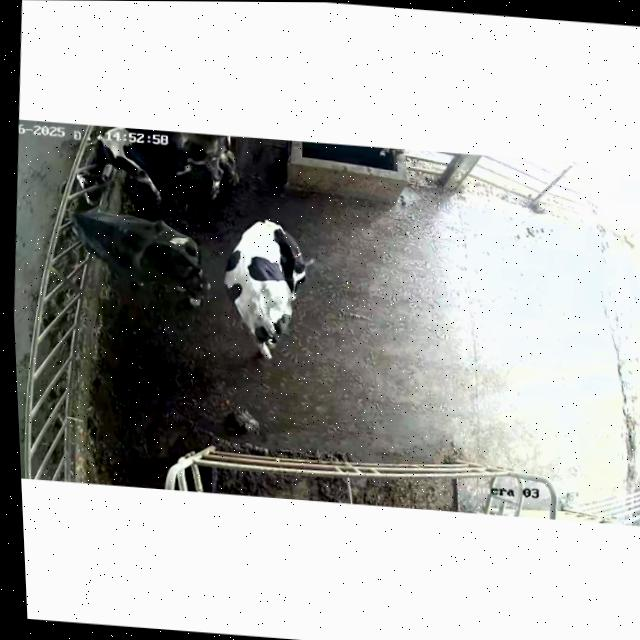stand: (212, 210, 342, 378)
